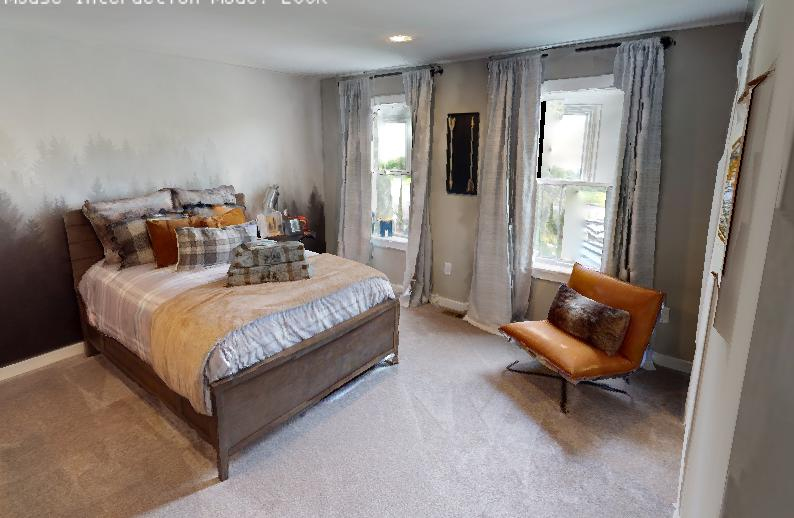bed: (71, 160, 402, 463)
chair: (482, 249, 672, 424)
